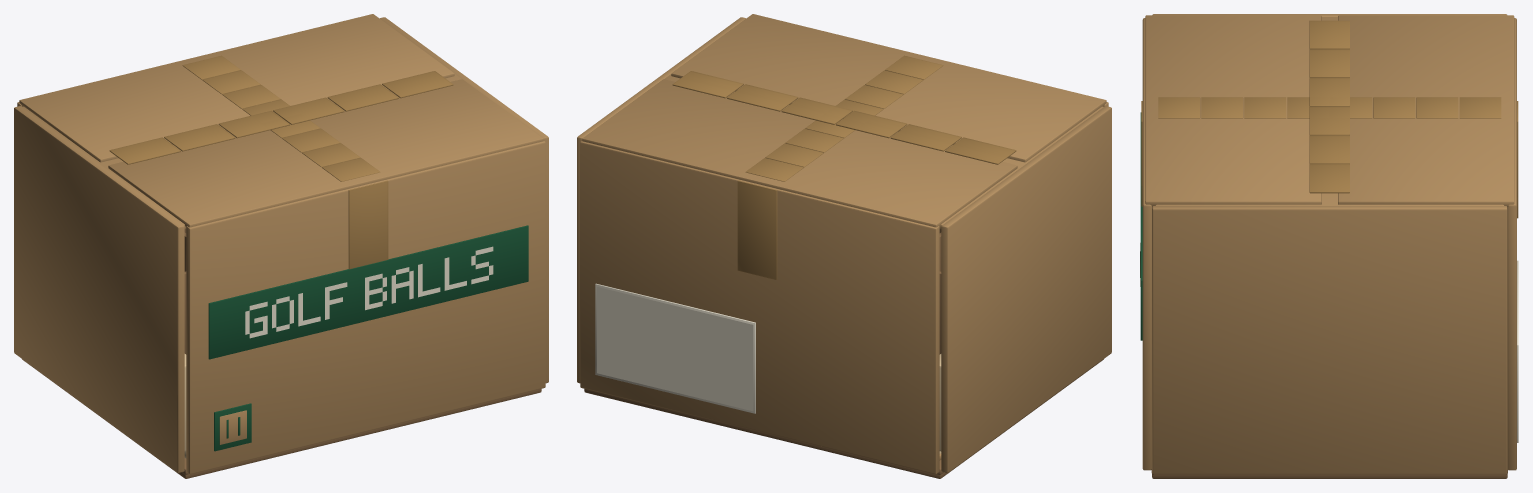
Rendered from delivery_golf_ball_case.glb.
3 views of the same model, side by side, from view 1: azimuth 30°, elevation 25°; view 2: azimuth 150°, elevation 25°; view 3: azimuth 270°, elevation 25° (orthographic). The views are drawn at different scales.
Visible parts, largest first — view 1: BOX_FRONT, BOX_LEFT, FLAP_TOP_FRONT, FLAP_TOP_BACK, LABEL_MAIN, TAPE_CENTER, TAPE_SIDE_FRONT, LABEL_CATEGORY_TEXT, BOX_RIGHT, BOX_BASE, TAPE_CROSS_SEG_02, TAPE_CROSS_SEG_04 (+6 smaller); view 2: BOX_BACK, BOX_LEFT, FLAP_TOP_BACK, FLAP_TOP_FRONT, LABEL_DYNAMIC, TAPE_CENTER, TAPE_SIDE_BACK, BOX_RIGHT, BOX_BASE, SHIPPING_LABEL_BACKING, TAPE_CROSS_SEG_02, TAPE_CROSS_SEG_04 (+4 smaller); view 3: BOX_RIGHT, FLAP_TOP_FRONT, FLAP_TOP_BACK, TAPE_CENTER, BOX_FRONT, BOX_BACK, BOX_BASE, TAPE_CROSS_SEG_04, TAPE_CROSS_SEG_06, TAPE_CROSS_SEG_01, TAPE_CROSS_SEG_02, TAPE_CROSS_SEG_03 (+4 smaller).
Boxes of the visible parts, <box> form: BOX_FRONT: <box>186,141,545,474</box>; BOX_LEFT: <box>14,106,184,472</box>; FLAP_TOP_FRONT: <box>108,79,543,227</box>; FLAP_TOP_BACK: <box>19,14,454,162</box>; LABEL_MAIN: <box>208,225,528,359</box>; TAPE_CENTER: <box>182,55,380,181</box>; TAPE_SIDE_FRONT: <box>348,180,388,269</box>; LABEL_CATEGORY_TEXT: <box>245,246,493,338</box>; BOX_RIGHT: <box>380,17,548,383</box>; BOX_BASE: <box>22,359,541,478</box>; TAPE_CROSS_SEG_02: <box>164,124,235,151</box>; TAPE_CROSS_SEG_04: <box>273,97,344,124</box>; BOX_BACK: <box>580,141,939,474</box>; BOX_LEFT: <box>941,106,1111,472</box>; FLAP_TOP_BACK: <box>582,79,1017,227</box>; FLAP_TOP_FRONT: <box>671,14,1106,162</box>; LABEL_DYNAMIC: <box>597,287,753,411</box>; TAPE_CENTER: <box>745,55,943,181</box>; TAPE_SIDE_BACK: <box>737,180,777,279</box>; BOX_RIGHT: <box>577,17,745,383</box>; BOX_BASE: <box>584,359,1103,478</box>; SHIPPING_LABEL_BACKING: <box>595,283,755,413</box>; TAPE_CROSS_SEG_02: <box>890,124,961,151</box>; TAPE_CROSS_SEG_04: <box>781,97,852,124</box>; BOX_RIGHT: <box>1152,206,1507,474</box>; FLAP_TOP_FRONT: <box>1145,15,1321,206</box>; FLAP_TOP_BACK: <box>1338,15,1514,206</box>; TAPE_CENTER: <box>1158,97,1501,118</box>; BOX_FRONT: <box>1142,18,1151,470</box>; BOX_BACK: <box>1507,18,1516,470</box>; BOX_BASE: <box>1152,474,1507,478</box>; TAPE_CROSS_SEG_04: <box>1309,106,1349,135</box>; TAPE_CROSS_SEG_06: <box>1309,164,1349,193</box>; TAPE_CROSS_SEG_01: <box>1309,20,1349,49</box>; TAPE_CROSS_SEG_02: <box>1309,49,1349,77</box>; TAPE_CROSS_SEG_03: <box>1309,78,1349,106</box>.
Size of what is drawn, in the model's own units: 0.52 by 0.3462 by 0.4252.
